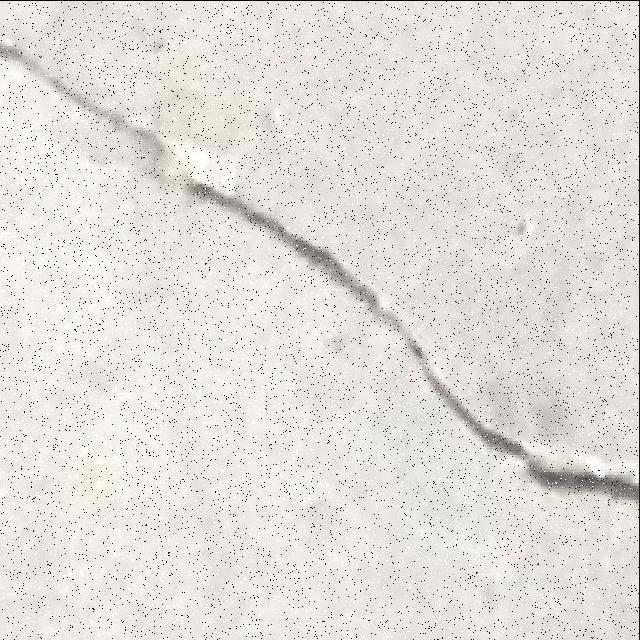crack: (1, 40, 636, 502)
